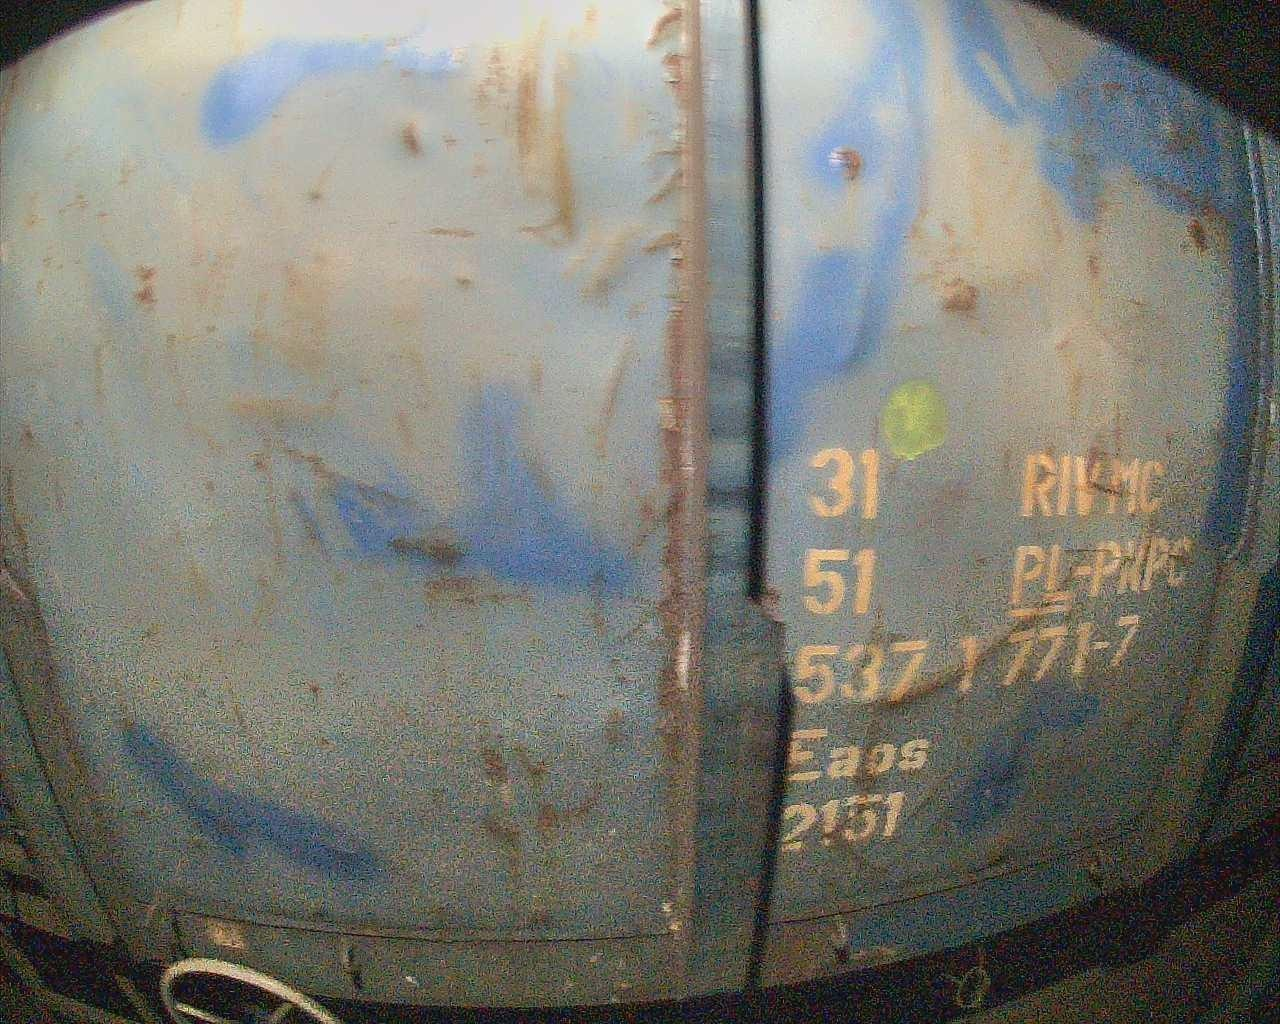UIC: (779, 446, 1196, 853)
